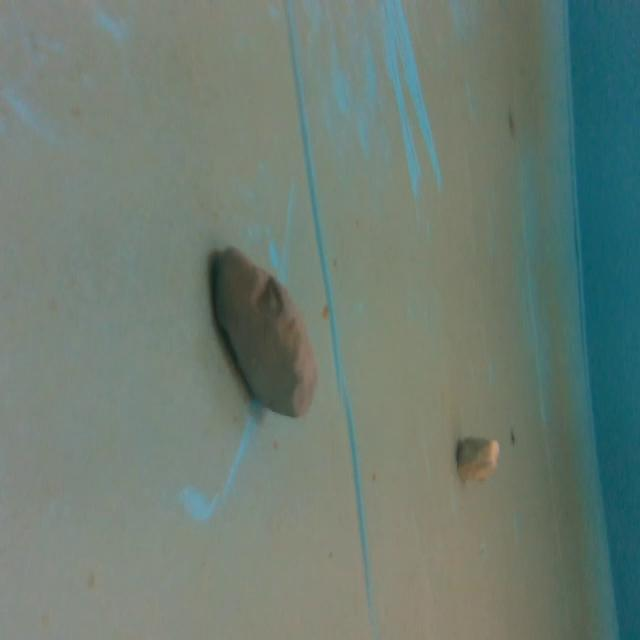rock: (208, 242, 329, 424), (454, 435, 505, 489)
